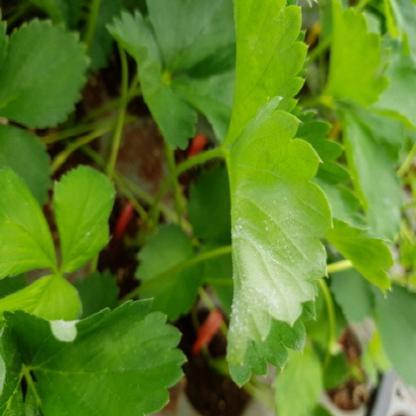Strawberry_Powdery_Mildew_Leaf: (224, 96, 335, 390), (0, 296, 189, 415)
